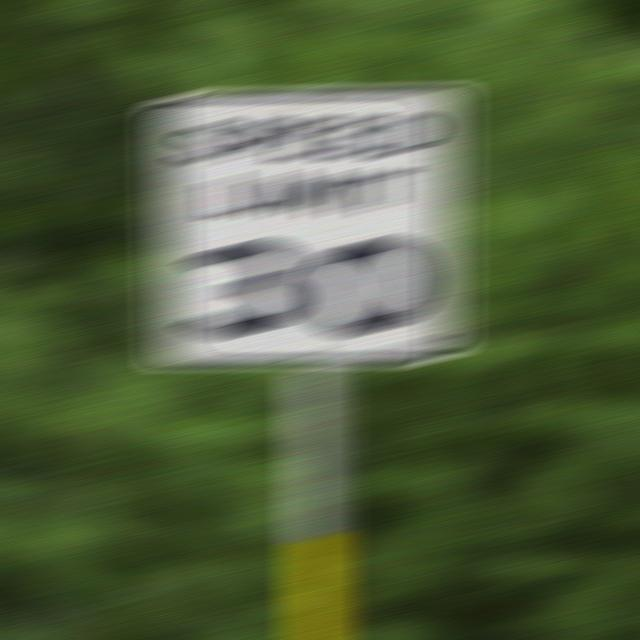speedLimit30: (152, 100, 462, 369)
